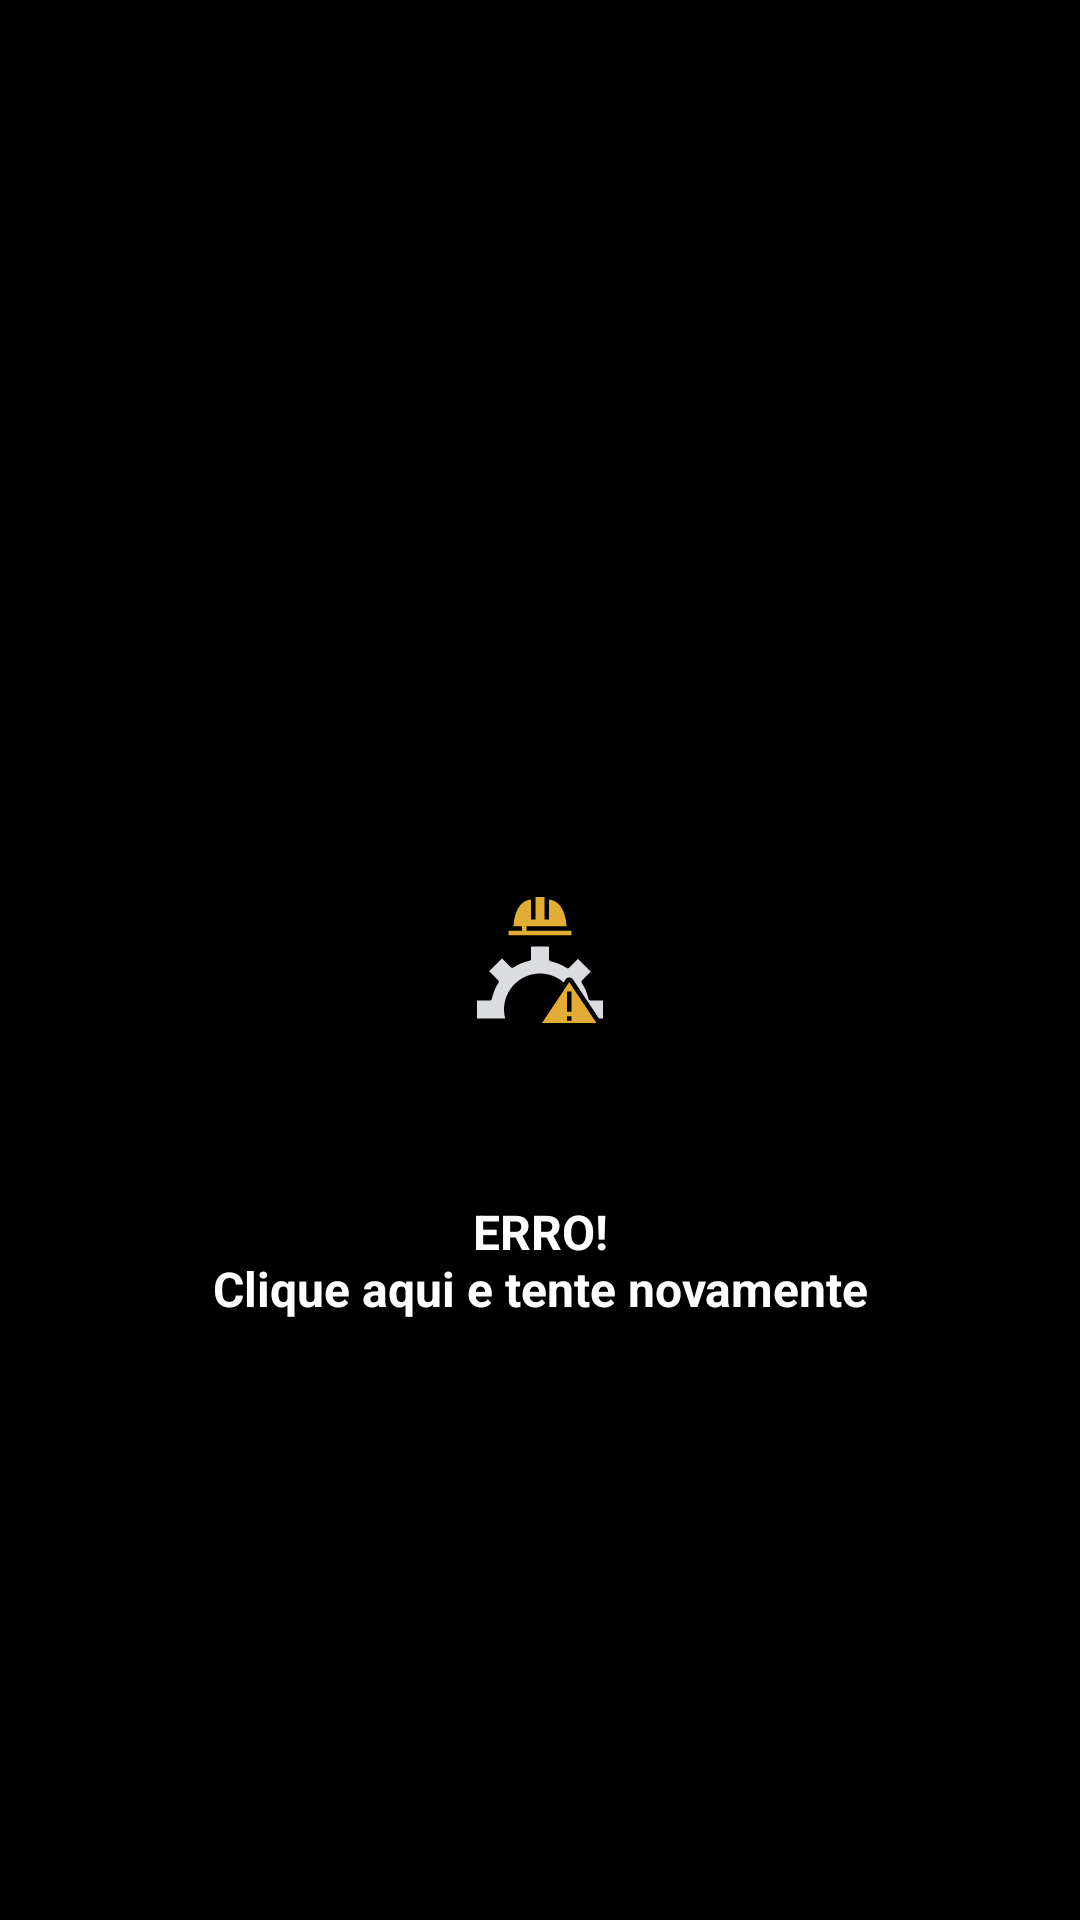

Screen size 1080x1920. Icon name, then its center in pixels as [x,y]:
error: [540,960]
